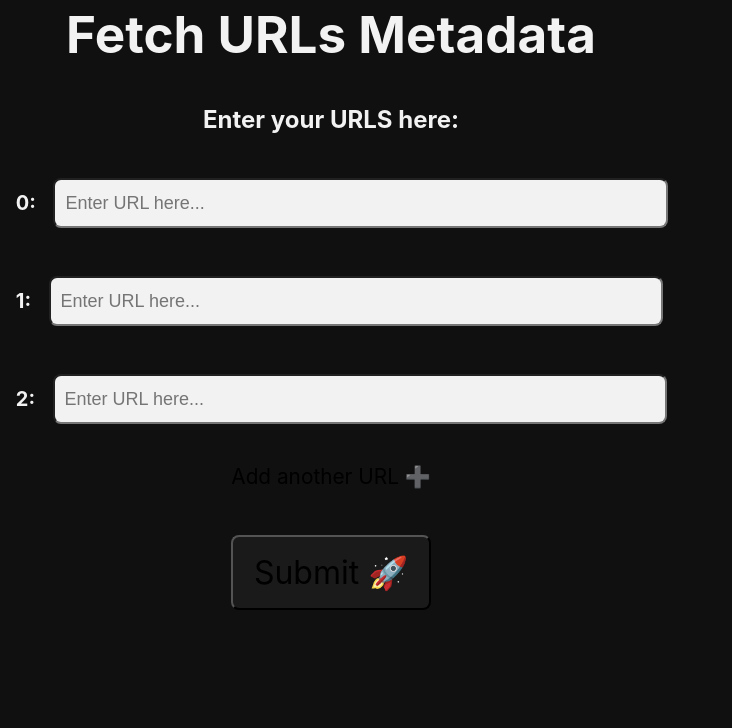
App Component › should add a new URL input field when "Add another URL" button is clicked
Click the button "Add another URL ➕" at (331, 477), box [139,448,523,505]
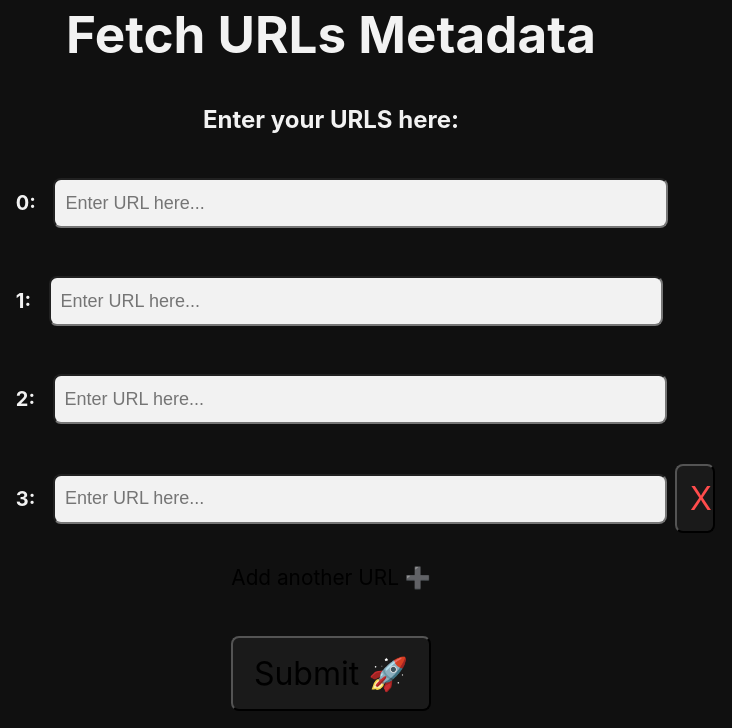
Expected: the number of fields with placeholder "Enter URL here..." is 4, [54,178,668,228]; [49,276,663,326]; [53,374,667,424]; [53,474,667,524]
